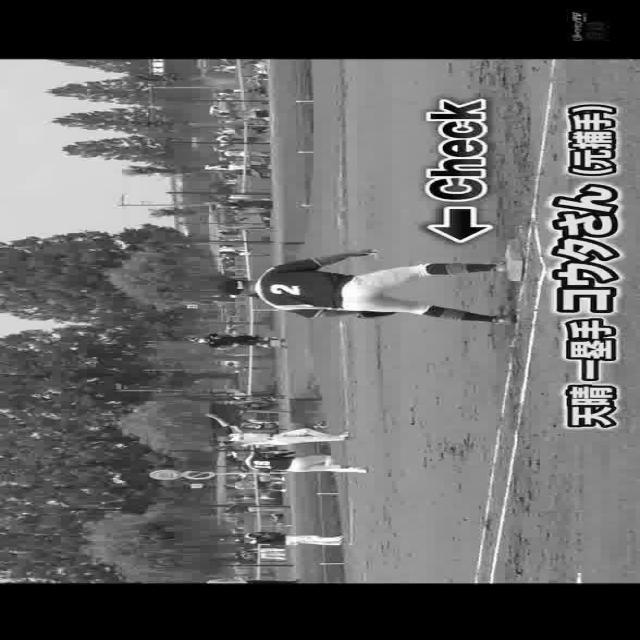base: (502, 236, 524, 284)
baseball_glove: (355, 304, 397, 316)
shoe: (486, 252, 508, 274), (488, 314, 518, 326), (324, 464, 354, 469)
